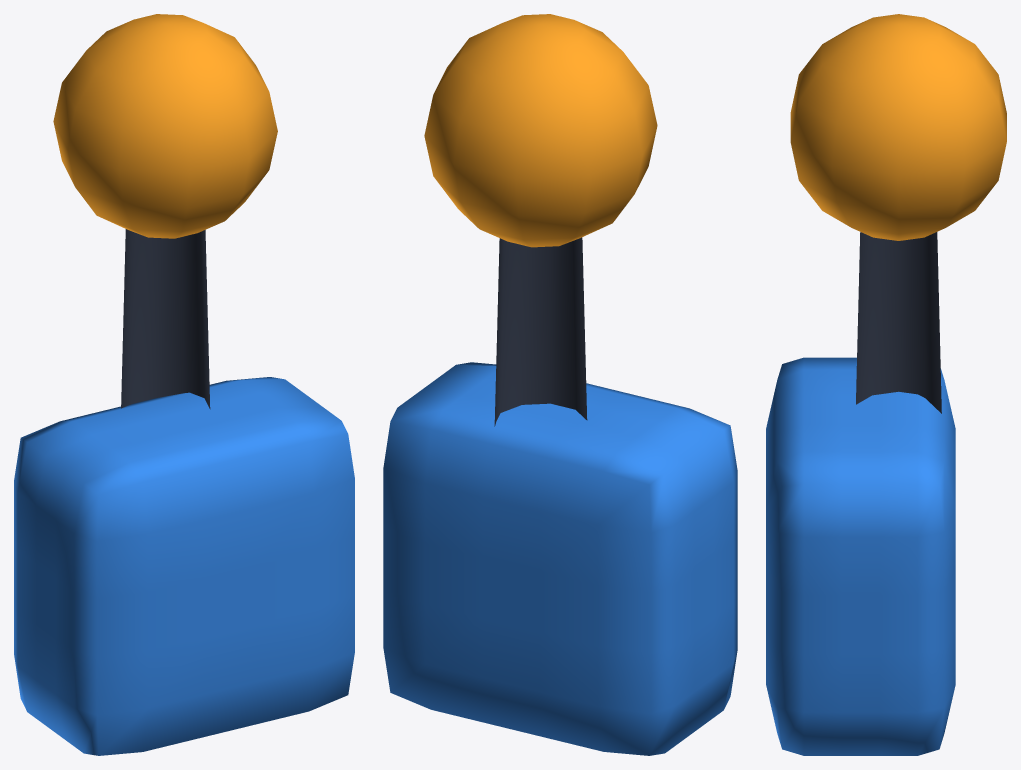
File: core_teslatower.obj
3 renders of one model, left to right at view 1: azimuth 30°, elevation 25°; view 2: azimuth 150°, elevation 25°; view 3: azimuth 270°, elevation 25°, orthographic. The views are drawn at different scales.
Size of the model in its own units: 0.34 by 0.79 by 0.2541.
